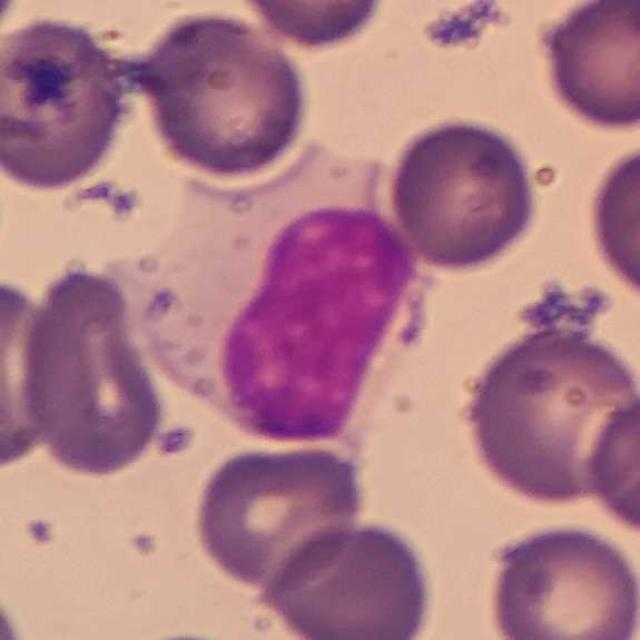Lymphocyte: (138, 139, 429, 450)
Platelets: (420, 2, 508, 54), (155, 420, 197, 460), (0, 590, 30, 640), (0, 0, 22, 34)
RBC: (11, 261, 170, 481), (456, 319, 638, 510), (137, 6, 315, 182), (189, 438, 371, 594), (383, 110, 543, 275), (254, 516, 438, 640), (0, 25, 128, 188), (482, 518, 640, 640), (533, 0, 640, 135), (0, 272, 67, 476), (583, 136, 640, 307), (580, 388, 640, 541), (232, 0, 394, 52)
